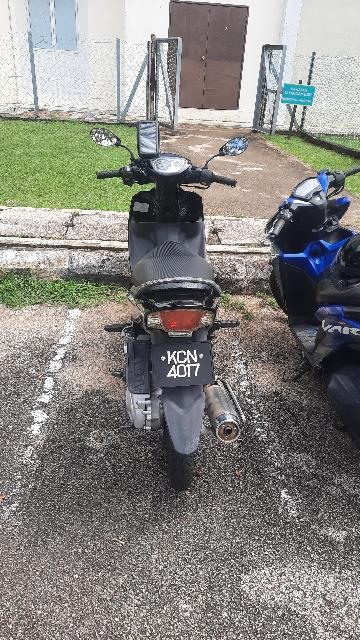License_Plate: (148, 339, 218, 391)
motorcycle: (90, 89, 269, 485)
